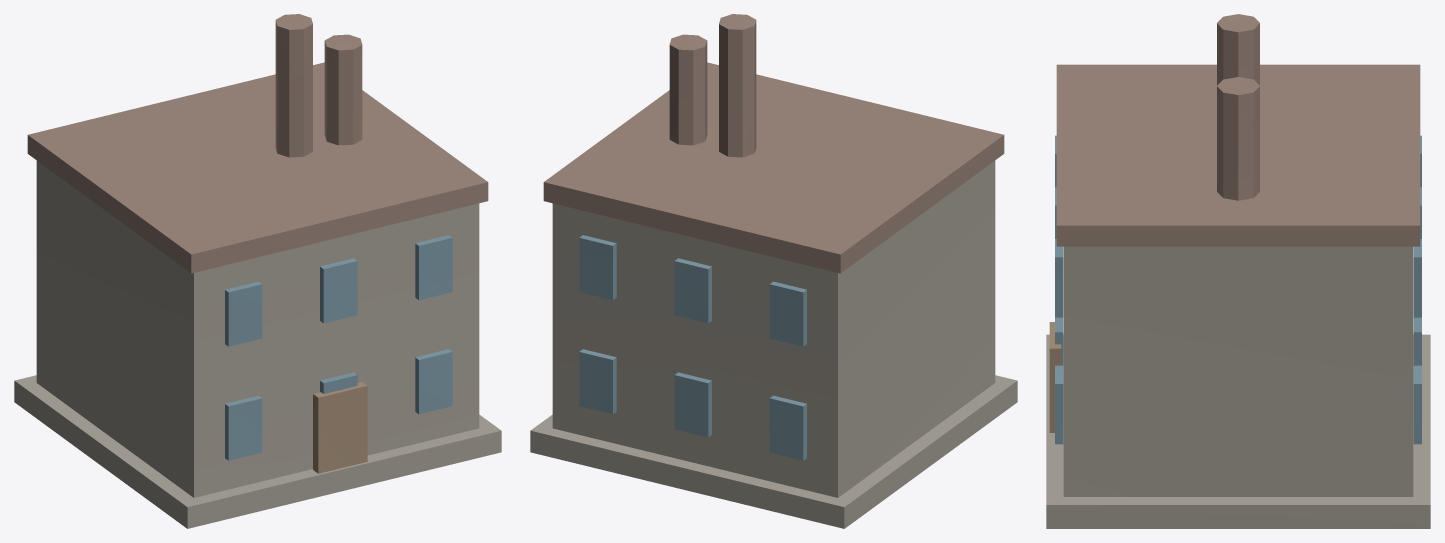
File: factory-04.glb
3 views of the same model, side by side, from view 1: azimuth 30°, elevation 25°; view 2: azimuth 150°, elevation 25°; view 3: azimuth 270°, elevation 25° (orthographic). The views are drawn at different scales.
Parts seen in each view (by area): view 1: world; view 2: world; view 3: world.
Part boxes in pixels (<box>): world: <box>14,14,501,528</box>; world: <box>530,14,1017,528</box>; world: <box>1046,14,1430,528</box>.
Size of the model in its own units: 1.21 by 1.46 by 1.15.
